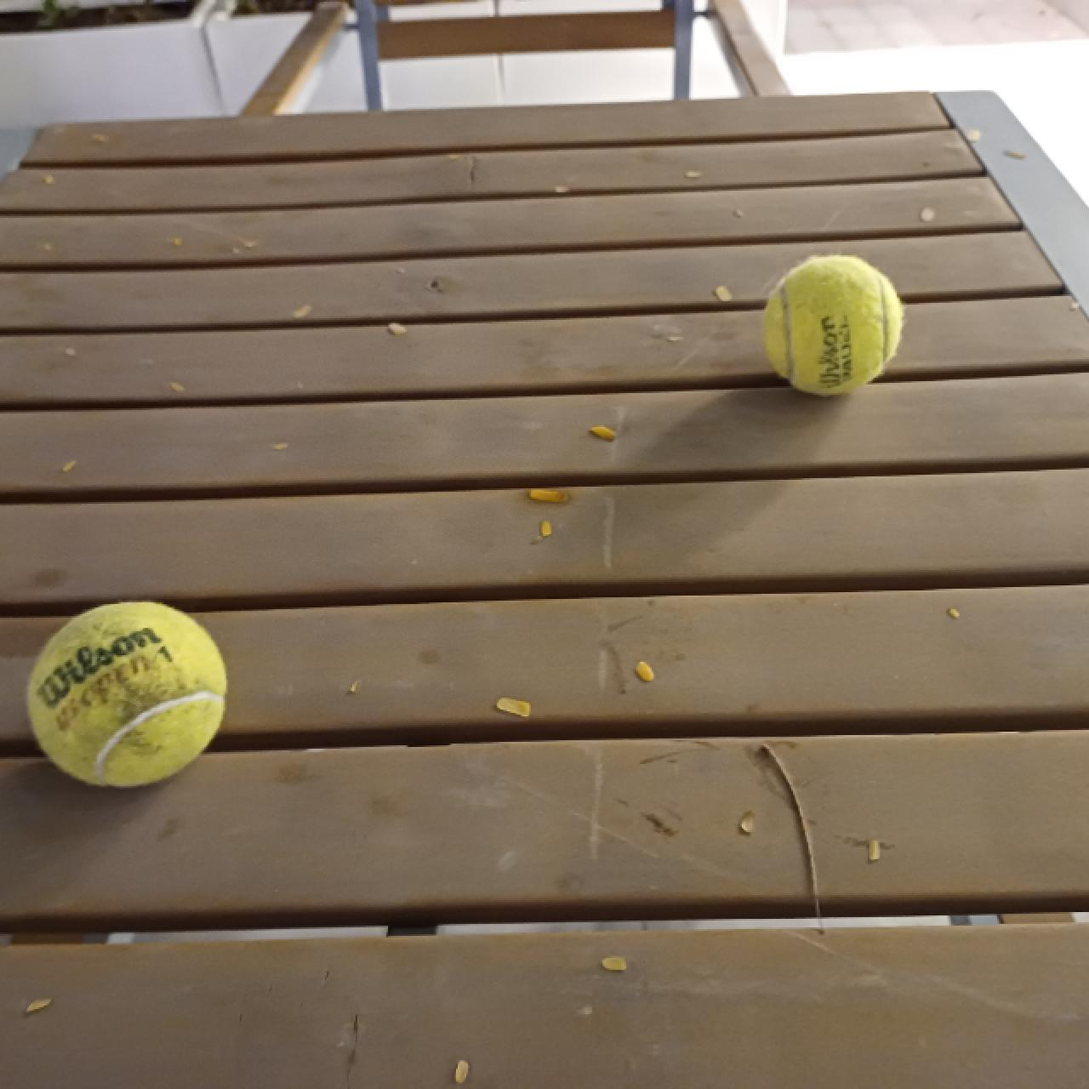tennis-ball: (26, 599, 226, 789), (759, 254, 905, 396)
